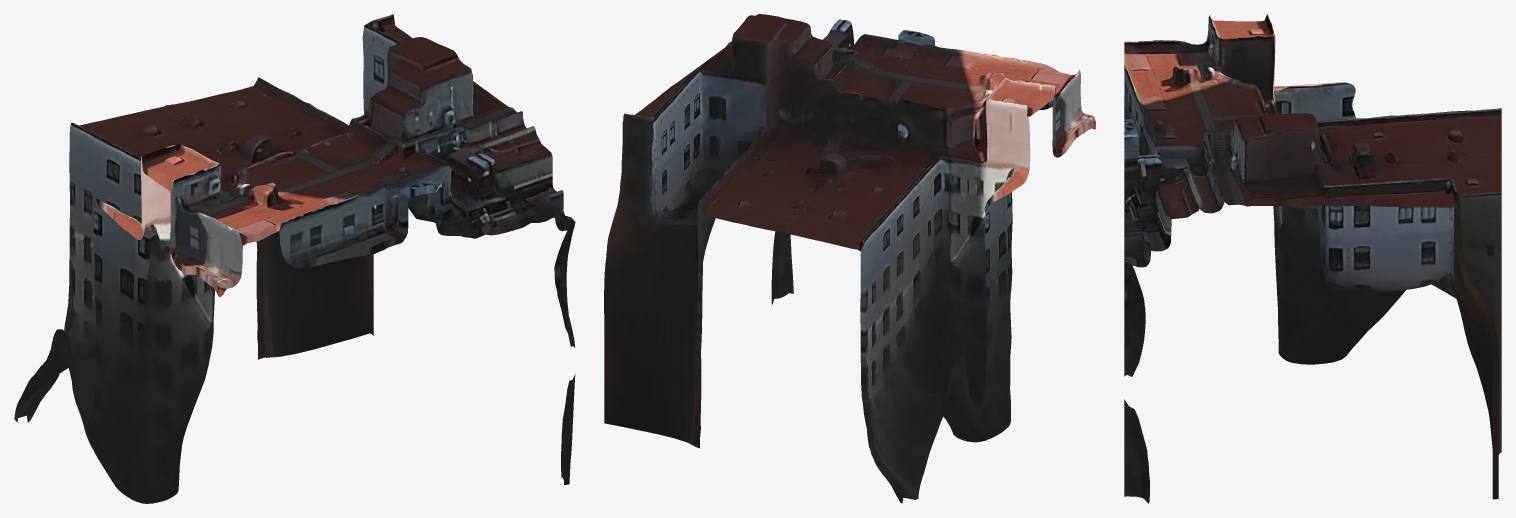
Rendered from z20-167746-405249-h1-yup-uvflip-v3-world.glb.
3 renders of one model, left to right at view 1: azimuth 30°, elevation 25°; view 2: azimuth 150°, elevation 25°; view 3: azimuth 270°, elevation 25°, orthographic. The views are drawn at different scales.
Bounding box in the file's own units: 30.2 × 31.72 × 30.32.
1 material, 1 textured.
